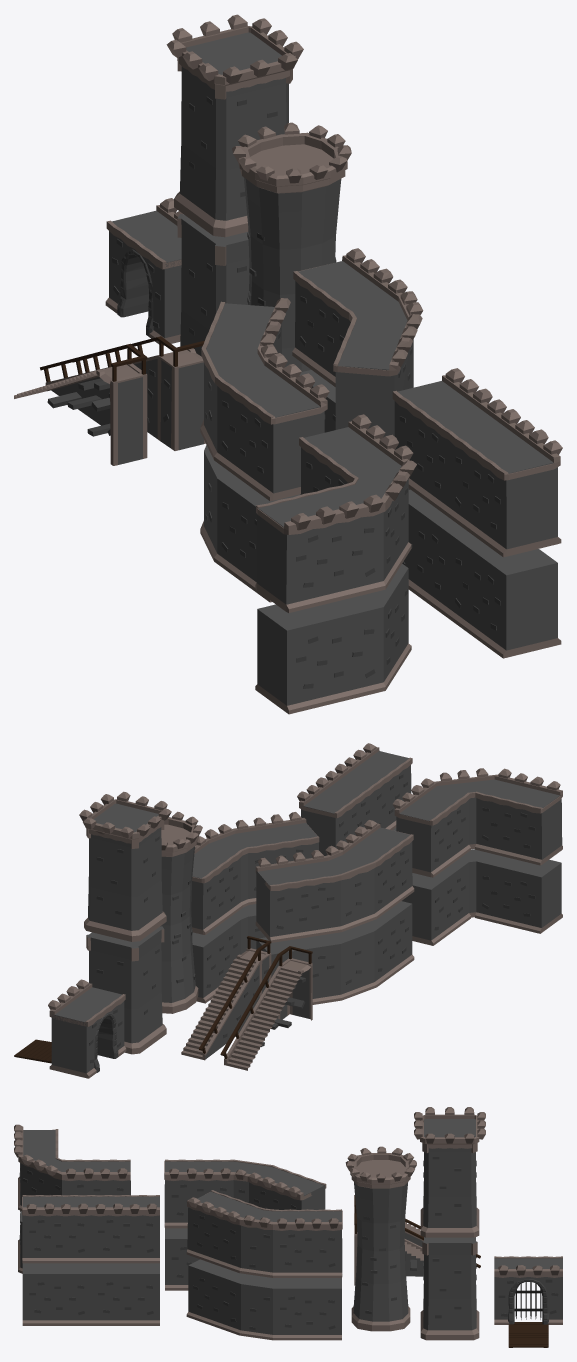
The model's file is castle.fbx.
The picture shows the model from 3 angles, top to bottom: view 1: azimuth 30°, elevation 25°; view 2: azimuth 150°, elevation 25°; view 3: azimuth 270°, elevation 25°; orthographic projection. The views are drawn at different scales.
Visible parts, largest first — view 1: Cube.020, Cube.019, Cube.013, Cube.018, Cube.017, Plane.001, Cube.024, Cube.021, Cube.014, Cube.008, Cube.025, Cube.007 (+1 smaller); view 2: Cube.020, Cube.018, Cube.013, Cube.024, Cube.017, Cube.023, Cube.019, Plane.001, Cube.025, Cube.014, Cube.008, Cube.007 (+2 smaller); view 3: Cube.017, Plane.001, Cube.022, Cube.019, Cube.021, Cube.013, Cube.018, Cube.025, Cube.020, Cube.014, Cube.023, Cube.015 (+3 smaller).
Boxes of the visible parts, x1=… form: Cube.020: x1=255, y1=414, x2=416, y2=612; Cube.019: x1=392, y1=368, x2=562, y2=557; Cube.013: x1=166, y1=14, x2=303, y2=237; Cube.018: x1=200, y1=298, x2=329, y2=501; Cube.017: x1=292, y1=248, x2=423, y2=437; Plane.001: x1=232, y1=122, x2=351, y2=371; Cube.024: x1=255, y1=563, x2=411, y2=714; Cube.021: x1=402, y1=489, x2=561, y2=658; Cube.014: x1=105, y1=198, x2=183, y2=345; Cube.008: x1=14, y1=343, x2=147, y2=465; Cube.025: x1=177, y1=214, x2=249, y2=356; Cube.007: x1=72, y1=336, x2=205, y2=450; Cube.020: x1=392, y1=768, x2=562, y2=877; Cube.018: x1=255, y1=820, x2=414, y2=942; Cube.013: x1=79, y1=791, x2=171, y2=941; Cube.024: x1=402, y1=849, x2=562, y2=945; Cube.017: x1=191, y1=812, x2=319, y2=934; Cube.023: x1=256, y1=901, x2=414, y2=1004; Cube.019: x1=297, y1=743, x2=412, y2=855; Plane.001: x1=160, y1=811, x2=202, y2=1013; Cube.025: x1=86, y1=926, x2=166, y2=1054; Cube.014: x1=48, y1=979, x2=126, y2=1078; Cube.008: x1=220, y1=946, x2=312, y2=1070; Cube.007: x1=181, y1=936, x2=271, y2=1060; Cube.017: x1=186, y1=1190, x2=342, y2=1277; Plane.001: x1=345, y1=1146, x2=416, y2=1331; Cube.022: x1=186, y1=1259, x2=341, y2=1340; Cube.019: x1=22, y1=1195, x2=159, y2=1263; Cube.021: x1=22, y1=1263, x2=159, y2=1325; Cube.013: x1=414, y1=1107, x2=485, y2=1237; Cube.018: x1=164, y1=1159, x2=326, y2=1228; Cube.025: x1=420, y1=1237, x2=479, y2=1340; Cube.020: x1=14, y1=1124, x2=130, y2=1210; Cube.014: x1=494, y1=1256, x2=562, y2=1324; Cube.023: x1=165, y1=1228, x2=199, y2=1290; Cube.015: x1=508, y1=1322, x2=548, y2=1347.
Size of the model in its own units: 55359 by 47408 by 111740.
